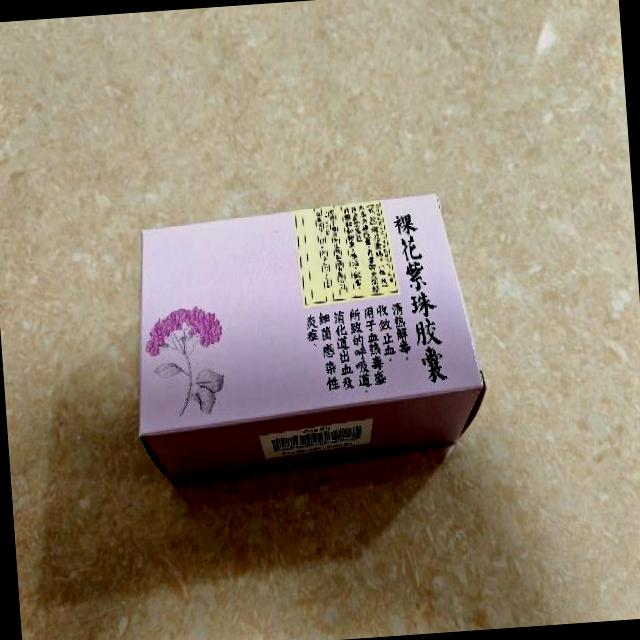box: (123, 190, 490, 487)
